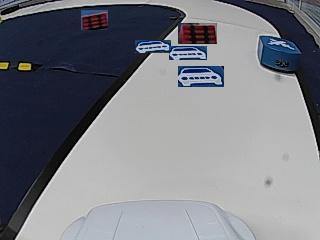prop: (258, 36, 301, 73)
